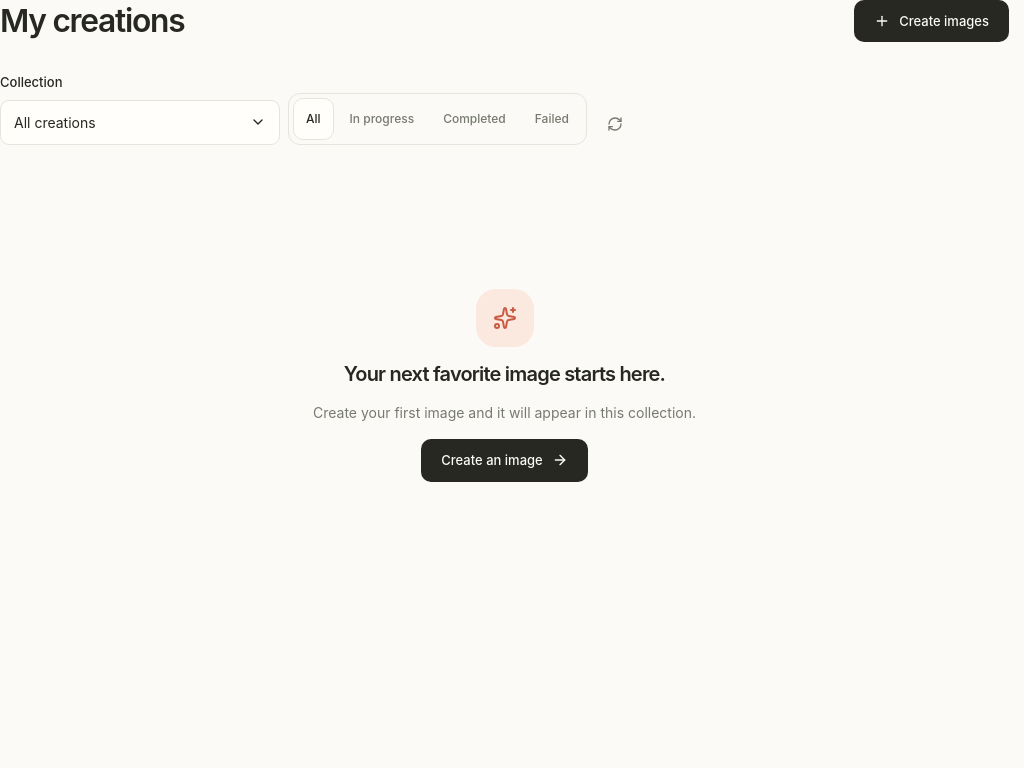
Test: keeps collection paging inside the chooser and preserves selection while browsing pages
Click the dropdown named "Collection". click: click(55, 122)
box: [0,100,280,145]
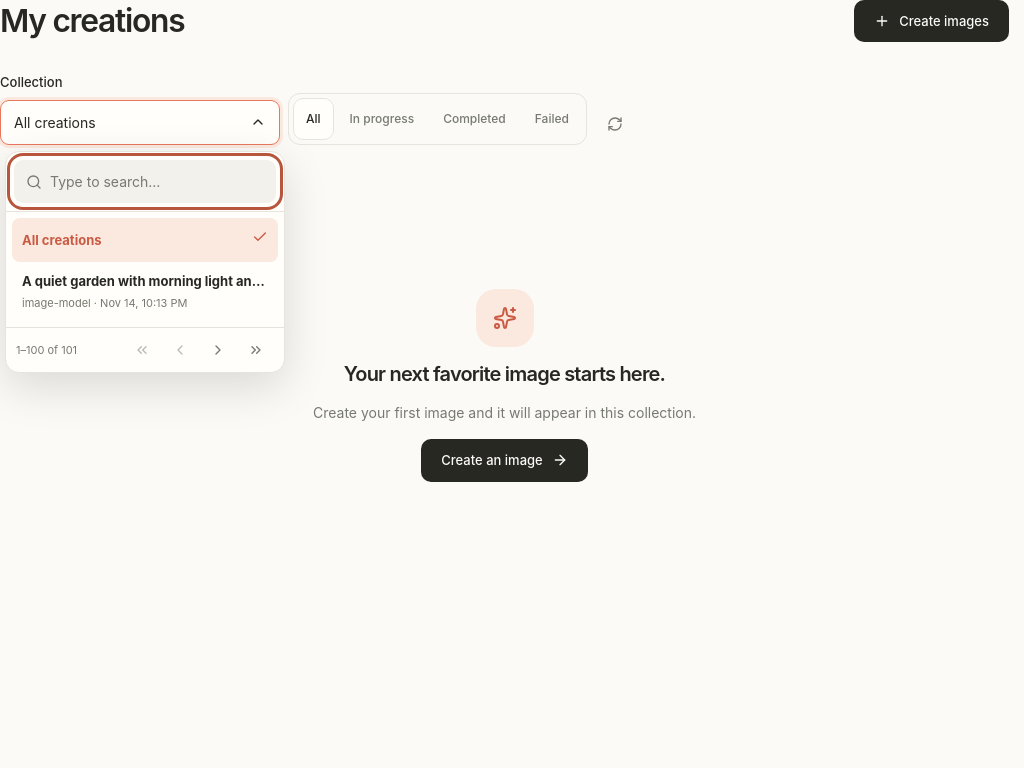
Expected: the option "A quiet garden" does not show "internal-collection-id", [12,262,278,321]
Expected: the option "A quiet garden" does not show "stays searchable", [12,262,278,321]
Type "stays searchable" into the dropdown named "Search Collection". click: (145, 182)
box: [14,160,276,203]
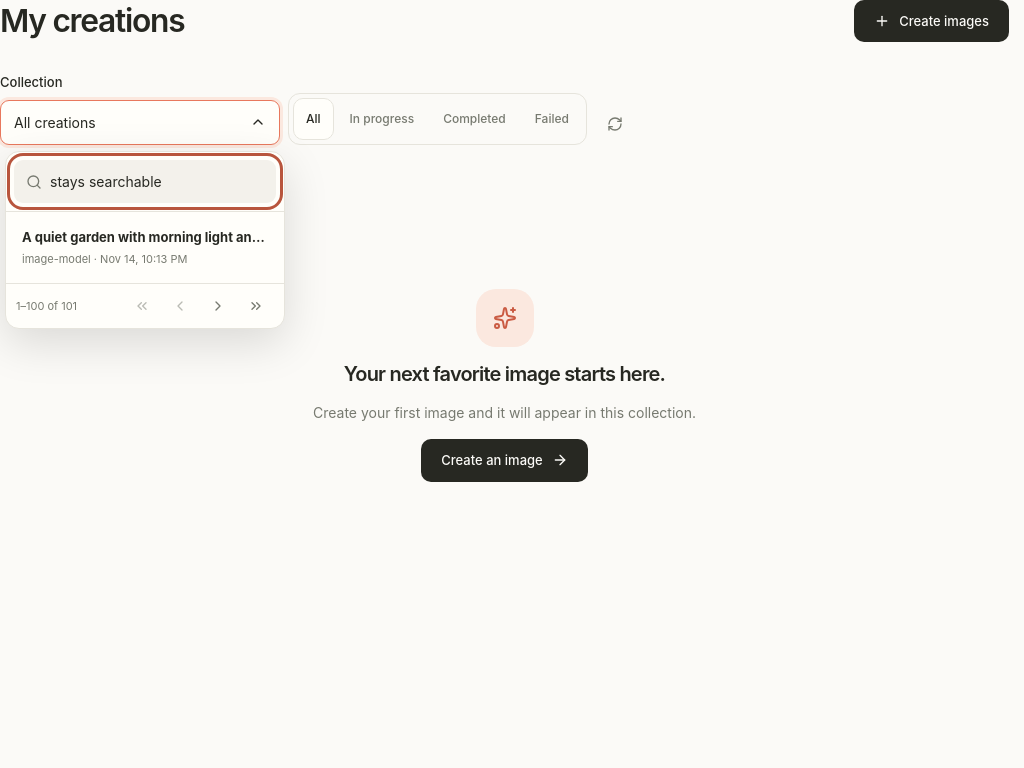
Expected: the option "A quiet garden" is shown
Click the option "A quiet garden". click: click(145, 248)
box: [12,218,278,277]
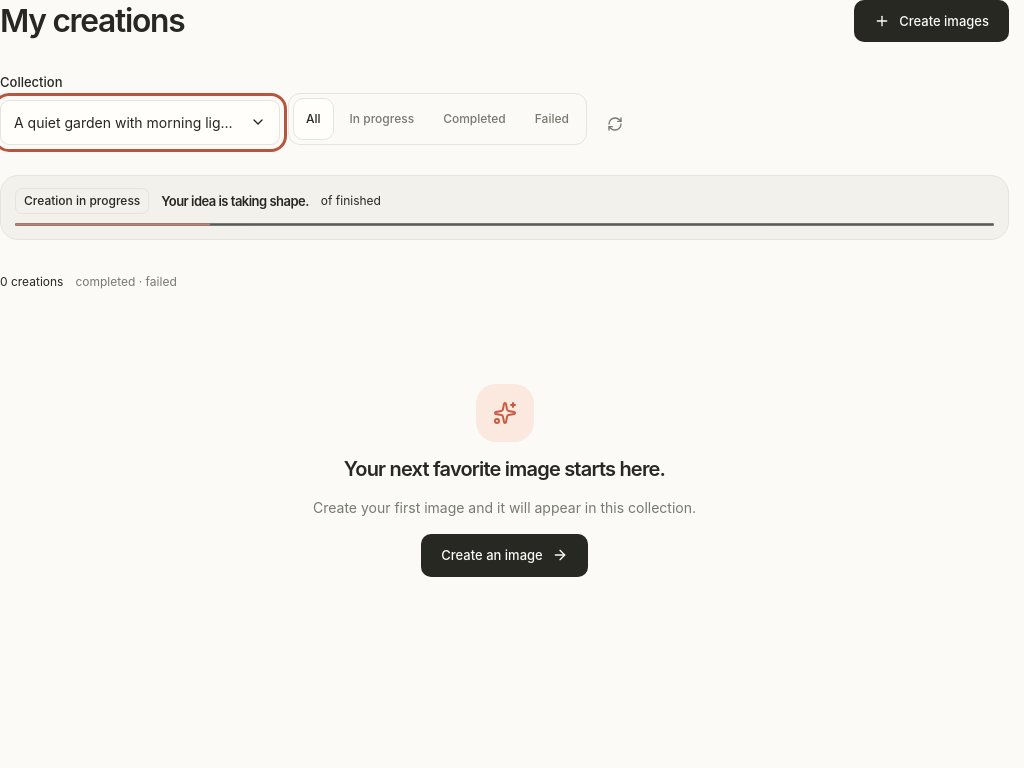
Expected: the dropdown named "Collection" is collapsed
Click the dropdown named "Collection". click: click(140, 122)
box: [0,100,280,145]
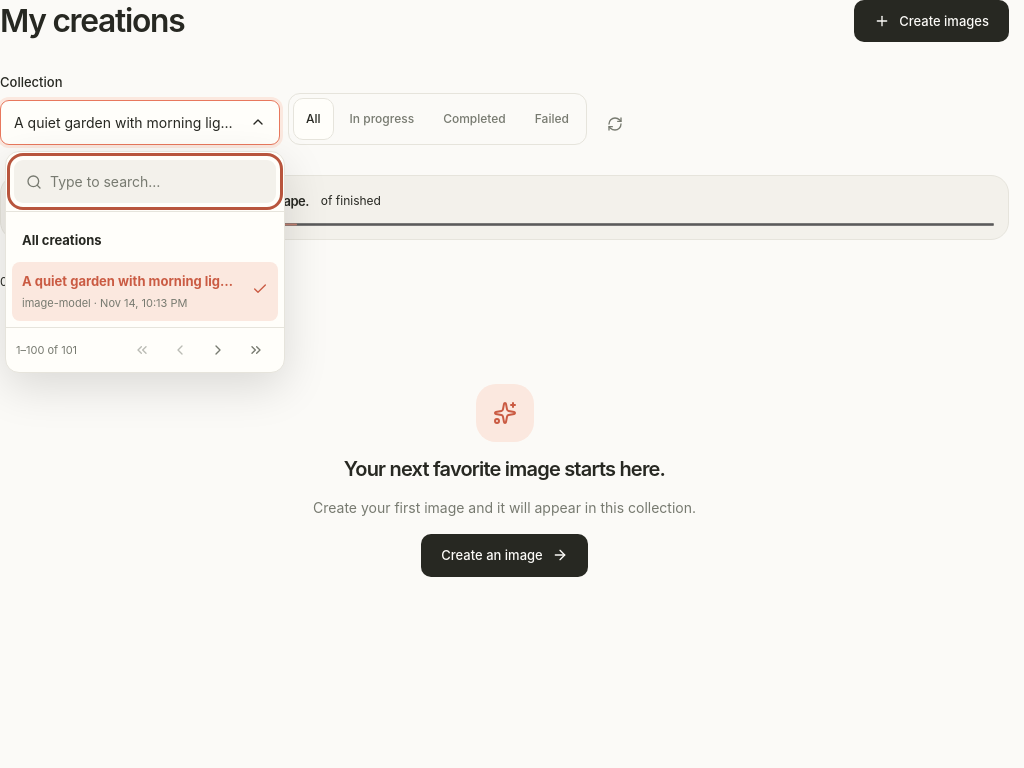
Expected: the navigation bar named "Collection" is shown, [6,327,284,372]
Click the button named "Next page". click: click(218, 350)
box: [200,336,236,364]
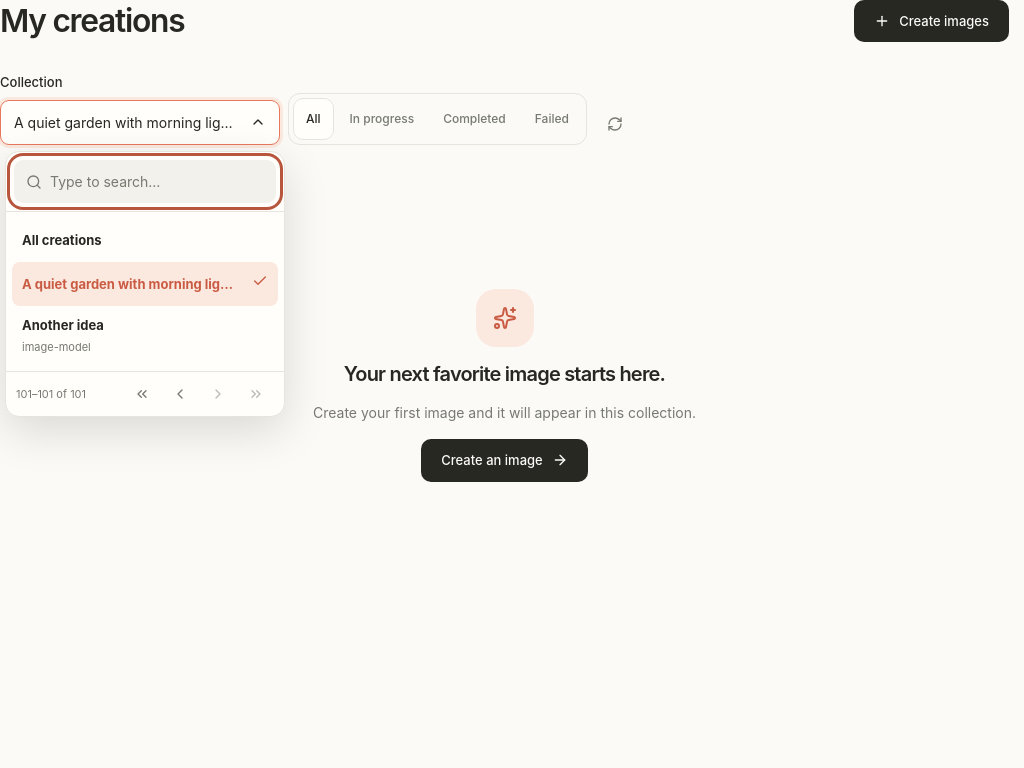
Expected: the dropdown named "Collection" shows "A quiet garden", [0,100,280,145]
Expected: the option "Another idea image-model" is shown, [22,317,104,354]
Press Escape
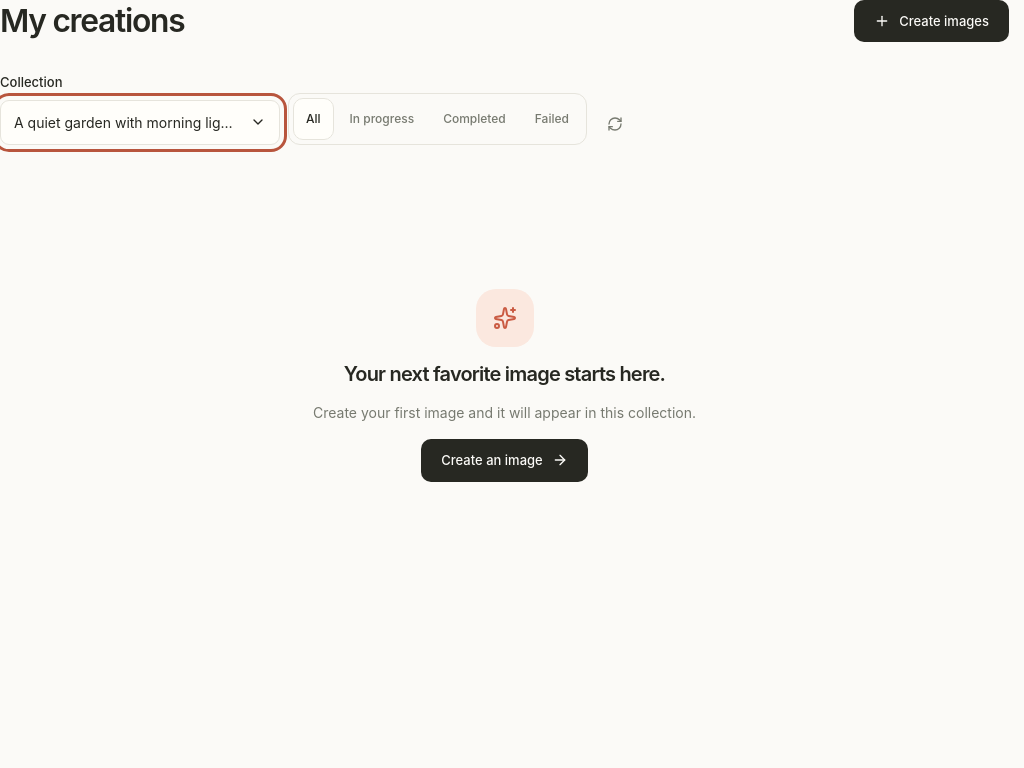
Expected: the dropdown named "Collection" shows "A quiet garden", [0,100,280,145]
Expected: the navigation bar "101–101 of 101" is gone
